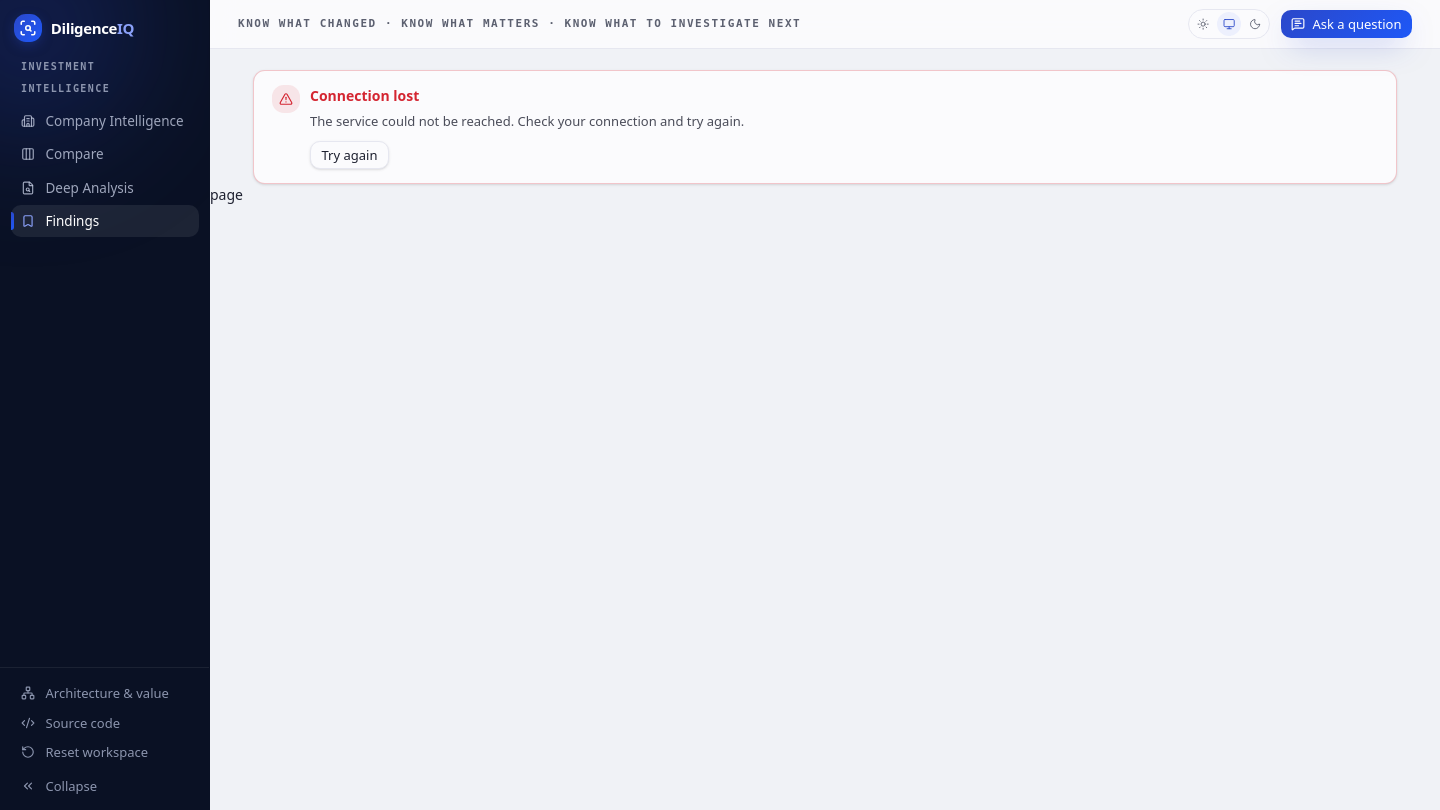
Test: AppShell › collapses the sidebar to icons while keeping accessible names
What coordinates should you click on to do the following:
click the button with aria-label "Collapse navigation"
I would click on:
 (104, 786)
Its box is [10, 772, 198, 800].
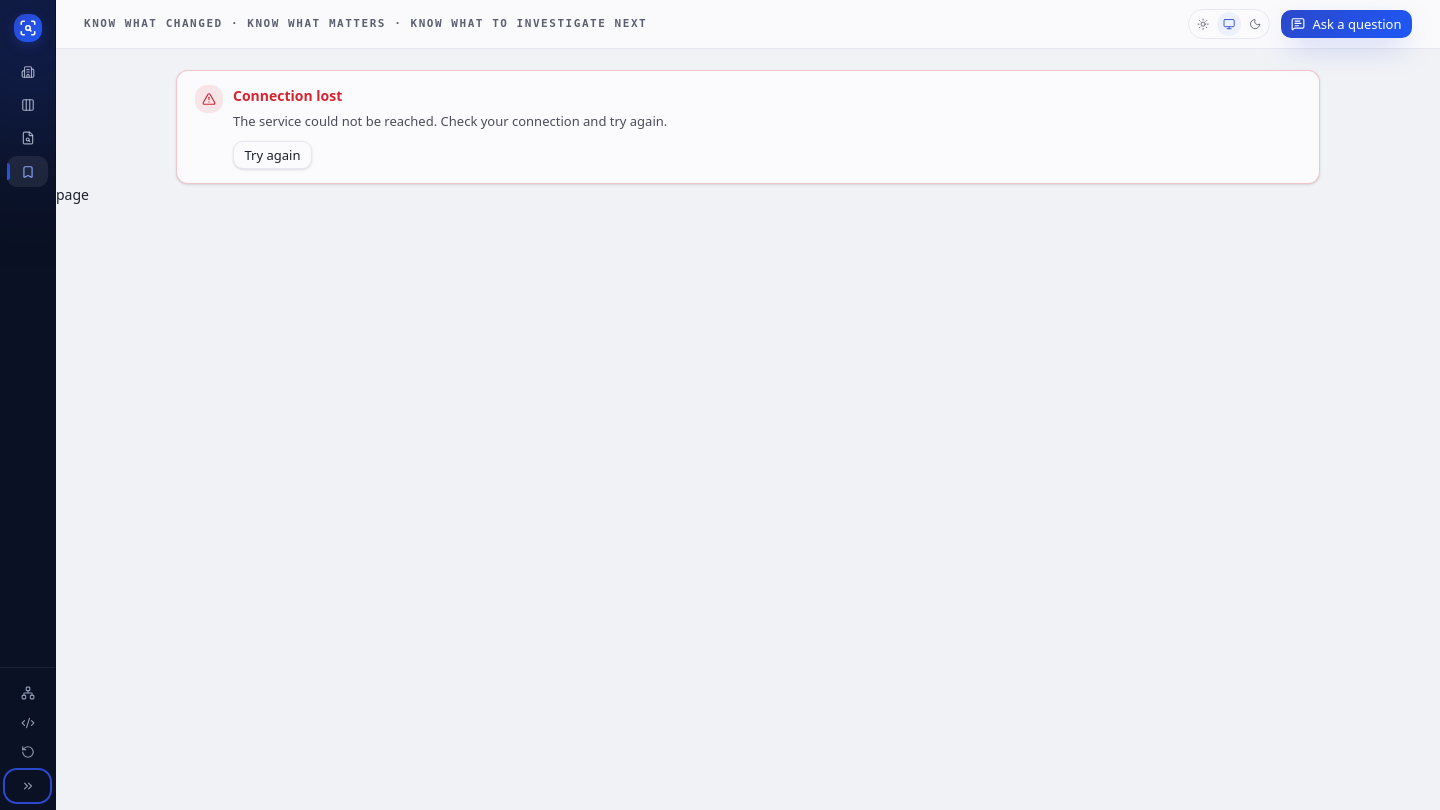
Expected: the 2nd link named "Compare" is shown, [7, 89, 48, 121]
Expected: the button named "Expand navigation" is collapsed, [7, 772, 48, 800]
